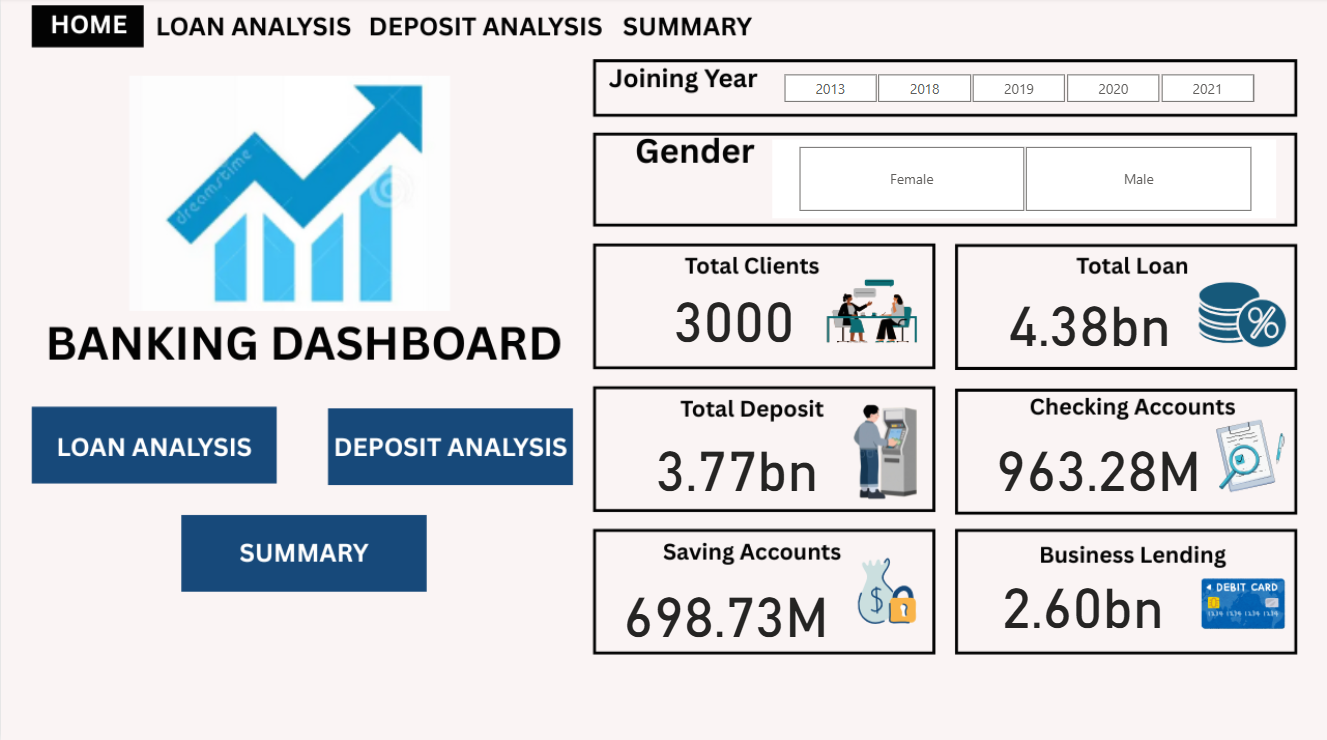

The dashboard page shown, as its layout file describes it:
{"tool":"powerbi","page":{"name":"Home","canvas":[1280,720],"ordinal":0},"visuals":[{"type":"card","fields":{"Values":["CountNonNull(Banking.Name)"]},"box":[632.2,243.7,150.8,126.7],"z":0},{"type":"slicer","fields":{"Values":["Banking.GenderId"]},"box":[744.4,137.5,486.2,76],"z":1000},{"type":"card","fields":{"Values":["Banking.Total loan"]},"box":[949.5,261.8,202.7,97.7],"z":2000},{"type":"card","fields":{"Values":["Banking.Total Deposit"]},"box":[605.6,369.2,209.9,162.9],"z":3000},{"type":"card","fields":{"Values":["Sum(Banking.Checking Accounts)"]},"box":[949.5,416.2,219.6,70],"z":4000},{"type":"card","fields":{"Values":["Sum(Banking.Business Lending)"]},"box":[949.5,506.7,189.4,153.2],"z":5000},{"type":"card","fields":{"Values":["Sum(Banking.Saving Accounts)"]},"box":[592.4,541.7,214.7,101.3],"z":6000},{"type":"slicer","fields":{"Values":["Banking.Year of Joining"]},"box":[729.9,67.6,503.1,38.6],"z":7000},{"type":"actionButton","box":[29,395.7,237.7,72.4],"z":8000},{"type":"actionButton","box":[172,497.6,240.2,73.2],"z":10000},{"type":"actionButton","box":[320.9,399.3,231.6,68.8],"z":10001},{"type":"actionButton","box":[29,8.4,108.6,37.4],"z":10002}]}

Visuals, with their boxes in screenshot pixels (x1, y1, x2, y2), scaled from the page's 1280x720 canvas onto the 1327x740 screenshot:
card - CountNonNull(Banking.Name): 655:250:812:381
slicer - Banking.GenderId: 772:141:1276:219
card - Banking.Total loan: 984:269:1195:369
card - Banking.Total Deposit: 628:379:845:547
card - Sum(Banking.Checking Accounts): 984:428:1212:500
card - Sum(Banking.Business Lending): 984:521:1181:678
card - Sum(Banking.Saving Accounts): 614:557:837:661
slicer - Banking.Year of Joining: 757:69:1278:109
actionButton: 30:407:276:481
actionButton: 178:511:427:587
actionButton: 333:410:573:481
actionButton: 30:9:143:47
